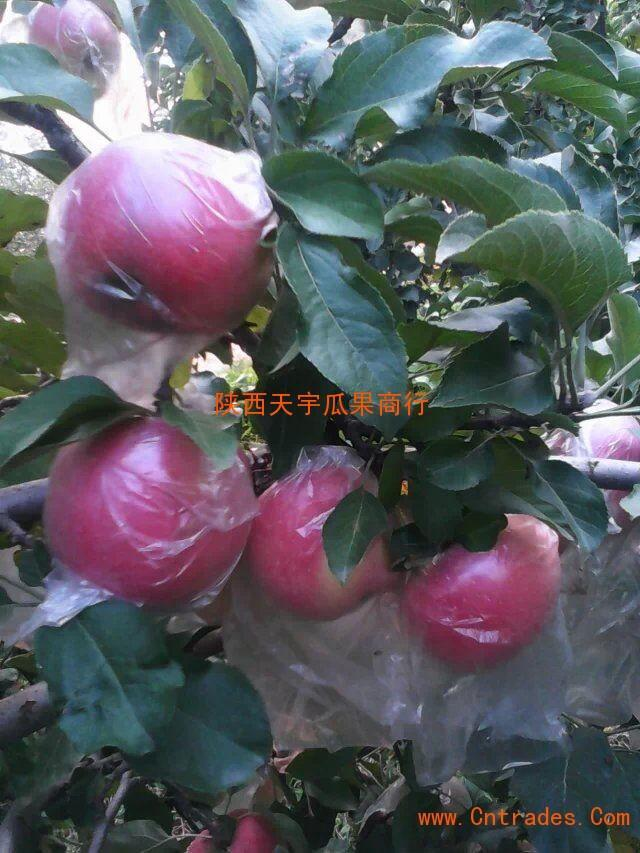apple: (44, 134, 275, 347), (52, 418, 253, 606), (243, 455, 383, 622)
